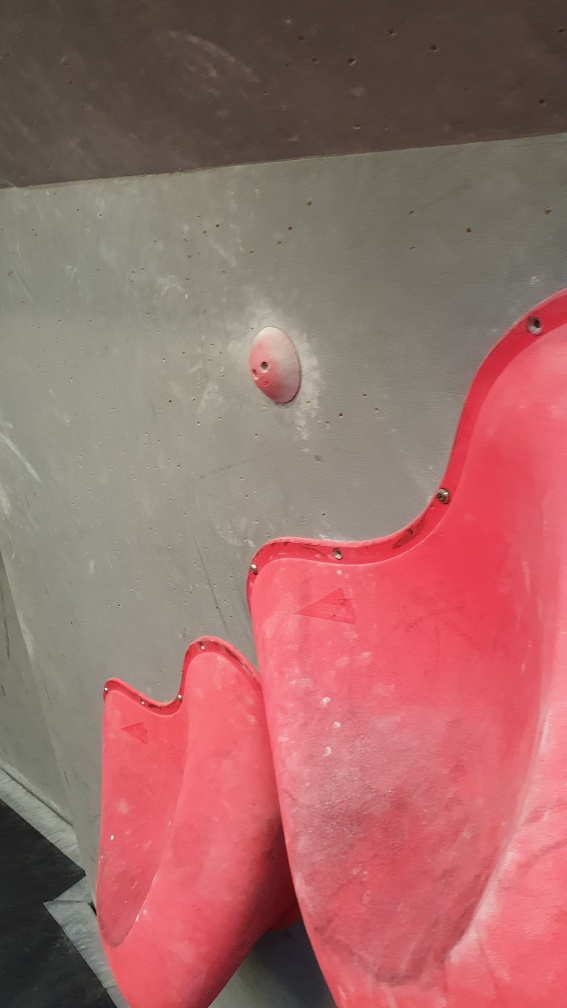Sloper: (243, 324, 311, 409)
